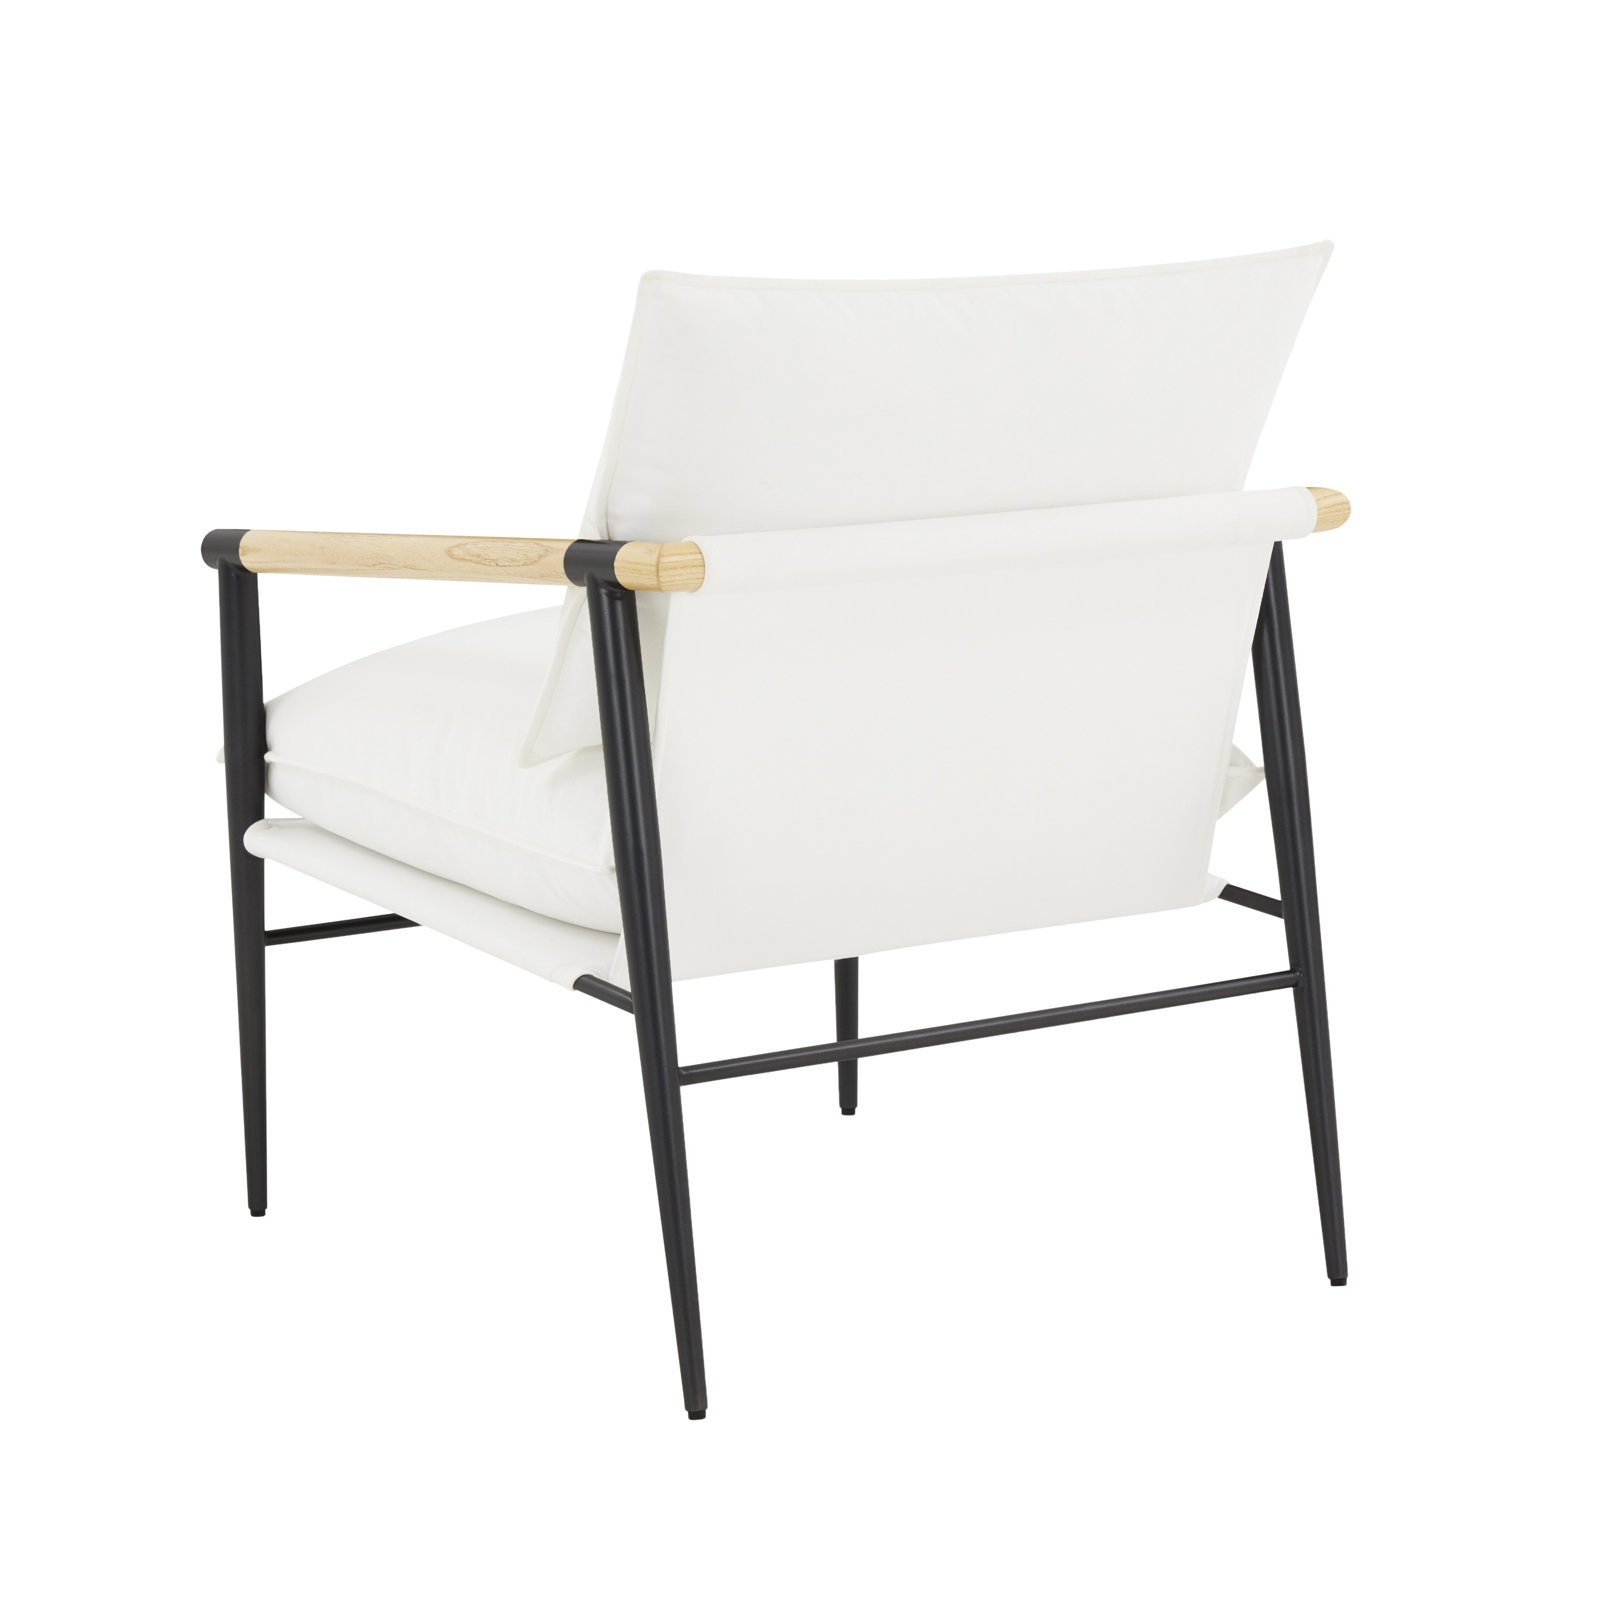obstacle: (204, 245, 1347, 1414)
